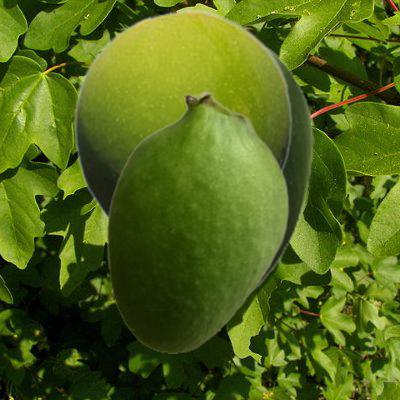green_mango: (106, 90, 288, 352), (73, 9, 292, 219), (247, 40, 313, 299)
